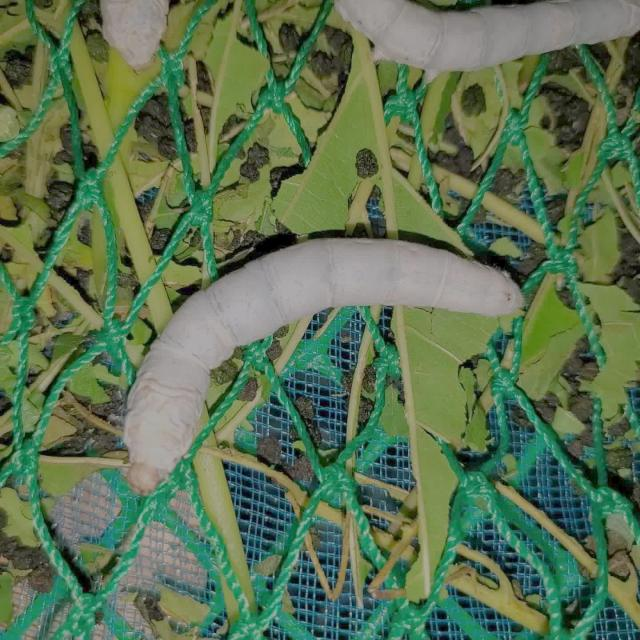Healthy: (71, 199, 562, 504)
